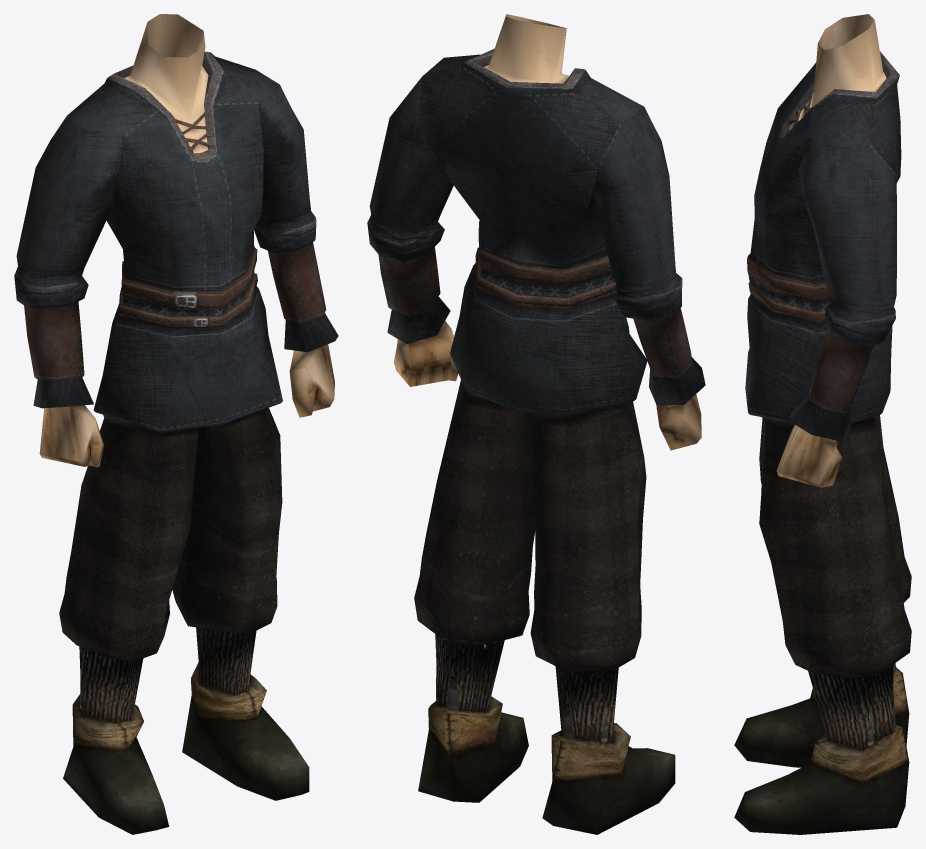
Rendered from GS_SLAV_VLK_02_3_KOZA.glb.
3 views of the same model, side by side, from view 1: azimuth 30°, elevation 25°; view 2: azimuth 150°, elevation 25°; view 3: azimuth 270°, elevation 25° (orthographic). The views are drawn at different scales.
Parts seen in each view (by area): view 1: GS_SLAV_VLK_02_3_KOZA; view 2: GS_SLAV_VLK_02_3_KOZA; view 3: GS_SLAV_VLK_02_3_KOZA.
Part boxes in pixels (x1,y1,x2,y2): GS_SLAV_VLK_02_3_KOZA: (14, 14, 338, 834); GS_SLAV_VLK_02_3_KOZA: (367, 14, 705, 834); GS_SLAV_VLK_02_3_KOZA: (734, 14, 911, 834).
Size of the model in its own units: 0.6903 by 1.68 by 0.3516.
Materials: 3 (3 with a texture image).
